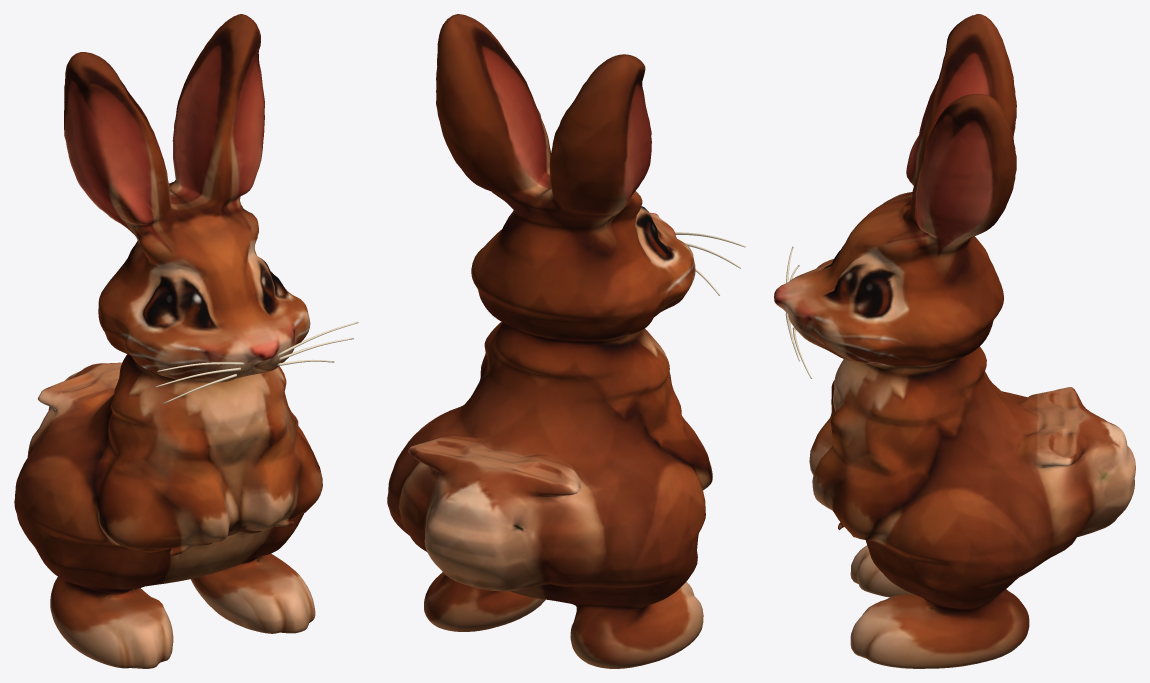
The model's file is asset.glb.
3 renders of one model, left to right at view 1: azimuth 30°, elevation 25°; view 2: azimuth 150°, elevation 25°; view 3: azimuth 270°, elevation 25°, orthographic. The views are drawn at different scales.
Visible parts, largest first — view 1: Rabbit_Organic_Body; view 2: Rabbit_Organic_Body; view 3: Rabbit_Organic_Body.
Boxes of the visible parts, box(x1,y1,x2,y2) form: Rabbit_Organic_Body: box(14, 14, 322, 668); Rabbit_Organic_Body: box(387, 14, 712, 668); Rabbit_Organic_Body: box(774, 14, 1135, 668).
Bounding box in the file's own units: 1.74 × 3.58 × 2.07.
2 materials, 1 textured.
